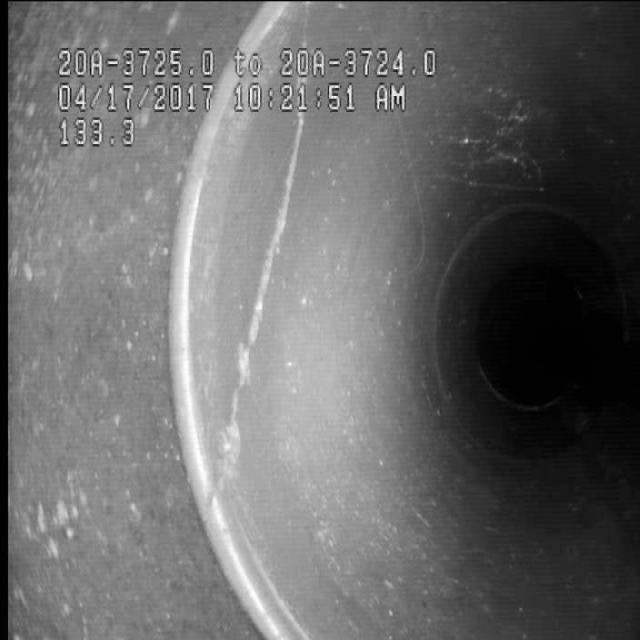Crack: (190, 138, 332, 480)
